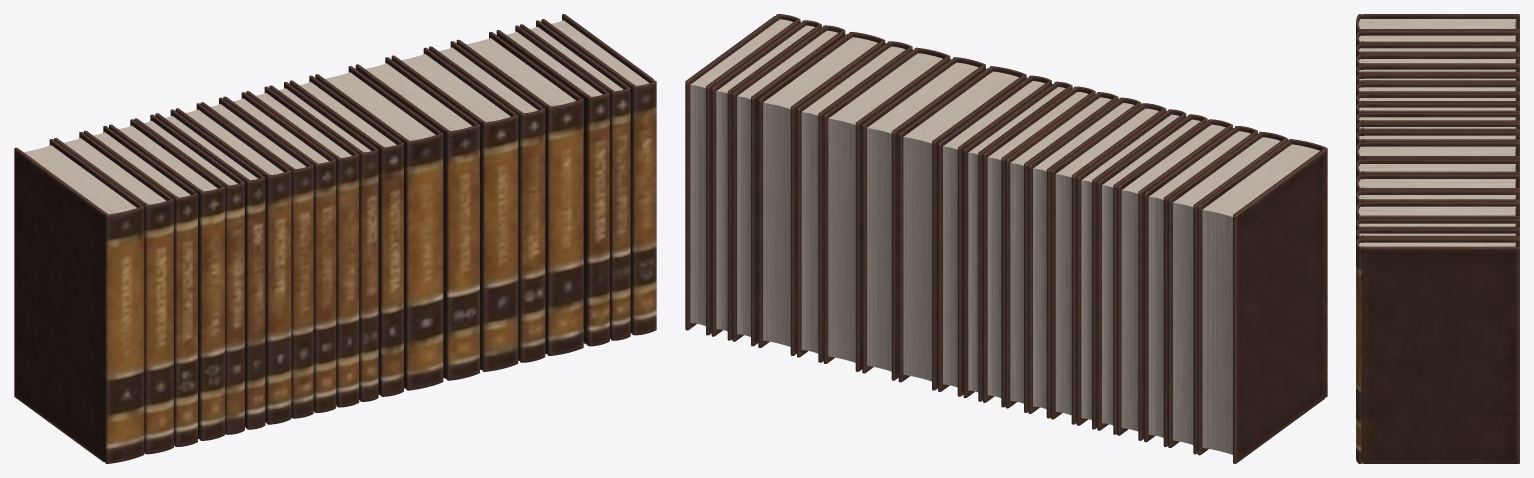
File: book_encyclopedia_set_01.glb
3 renders of one model, left to right at view 1: azimuth 30°, elevation 25°; view 2: azimuth 150°, elevation 25°; view 3: azimuth 270°, elevation 25°, orthographic. The views are drawn at different scales.
Bounding box in the file's own units: 0.5513 × 0.2374 × 0.1631.
Materials: 2 (2 with a texture image).
